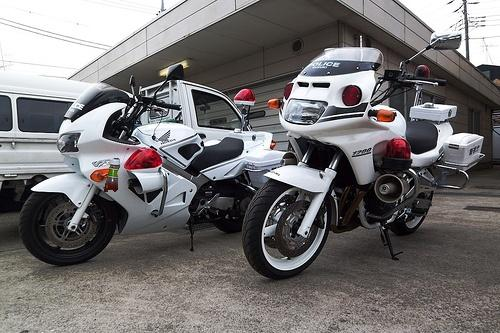tampered: (105, 159, 120, 221)
